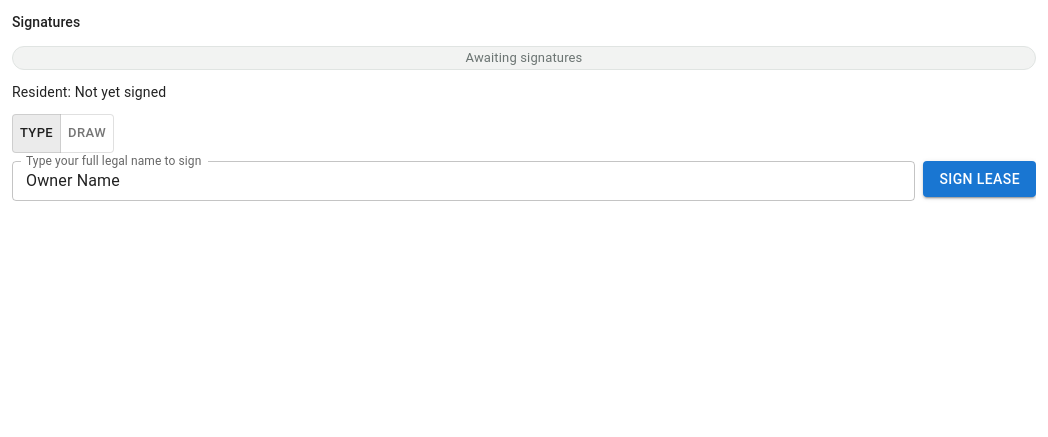
Test: asks for a drawing before signing in draw mode
Step 1. Click the button "Draw" → click(87, 133), box [60, 114, 114, 153]
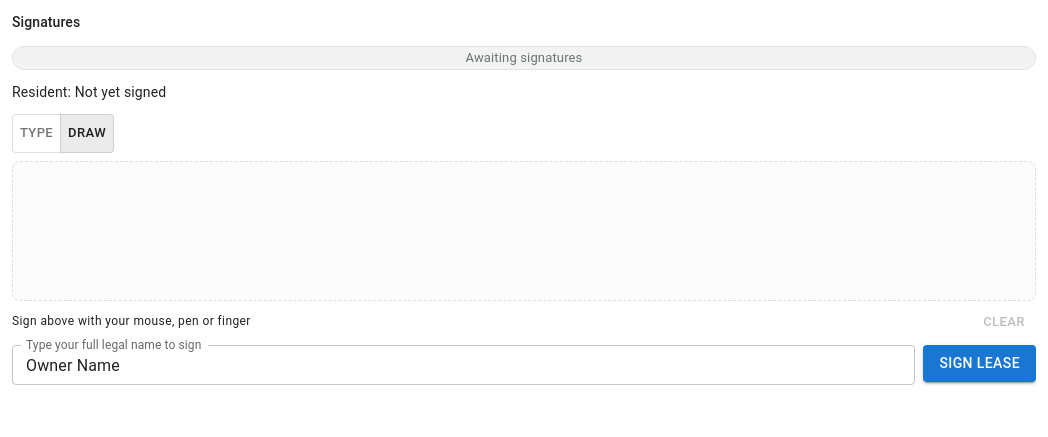
Step 2. Click the button "Sign lease" → click(980, 364), box [923, 346, 1036, 382]
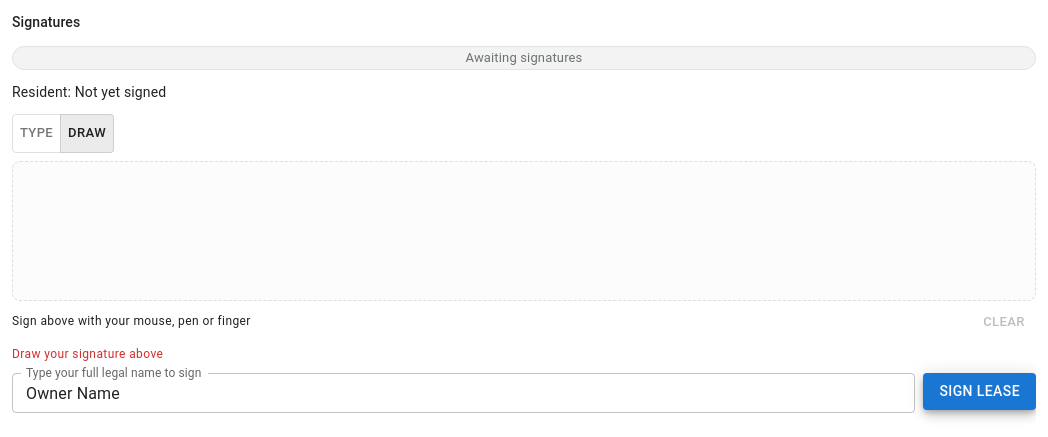
Result: the text "Draw your signature above" is shown at [12, 348, 163, 362]
